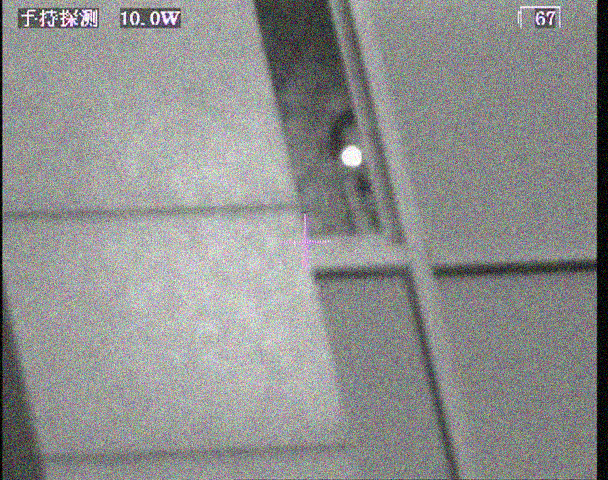my: (340, 144, 362, 167)
